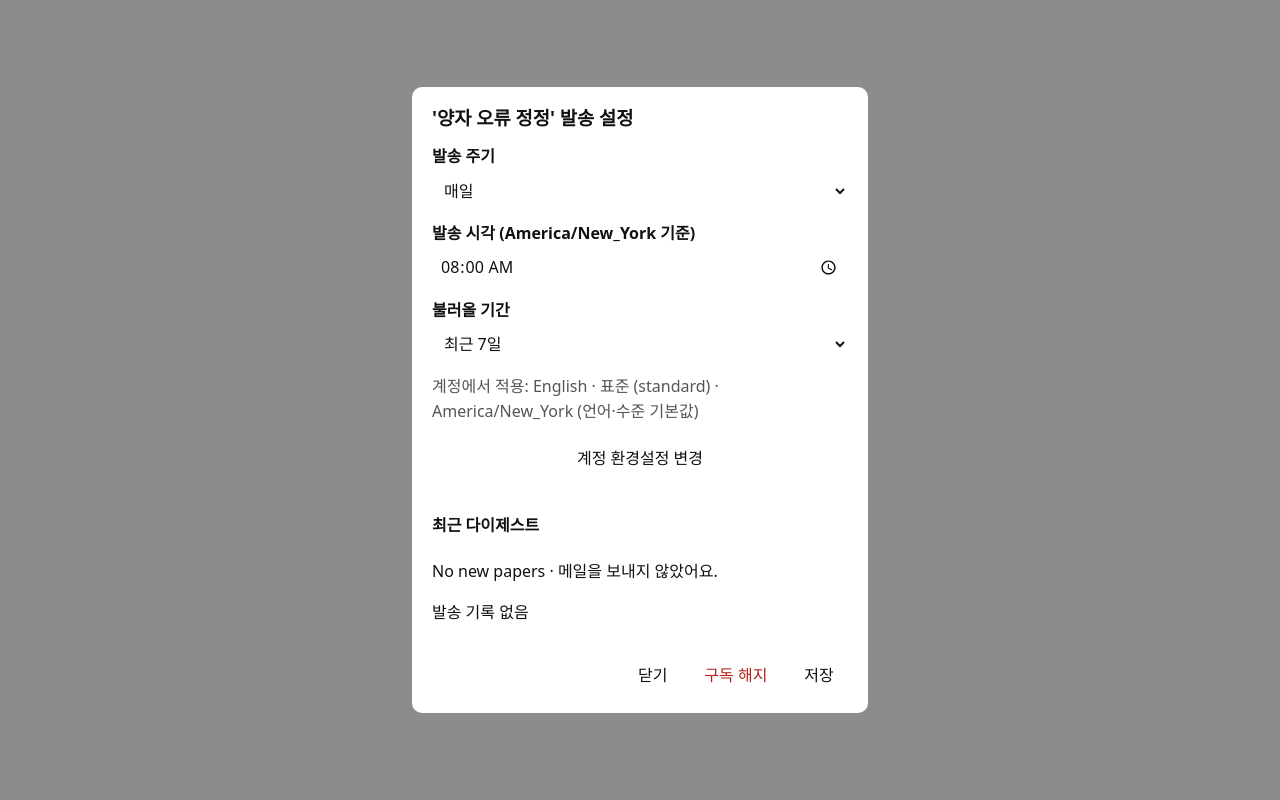
Test case: shows actual inherited preferences, recorded empty no-send state and editor inside the dialog
Expected: the text with test id "inherited-note" shows "English · 표준 (standard) · America/New_York", [432,375,719,422]
Expected: the text with test id "inherited-note" shows "기본값", [432,375,719,422]
Click the button with test id "preferences-toggle" at (640, 458), box [432,436,848,480]
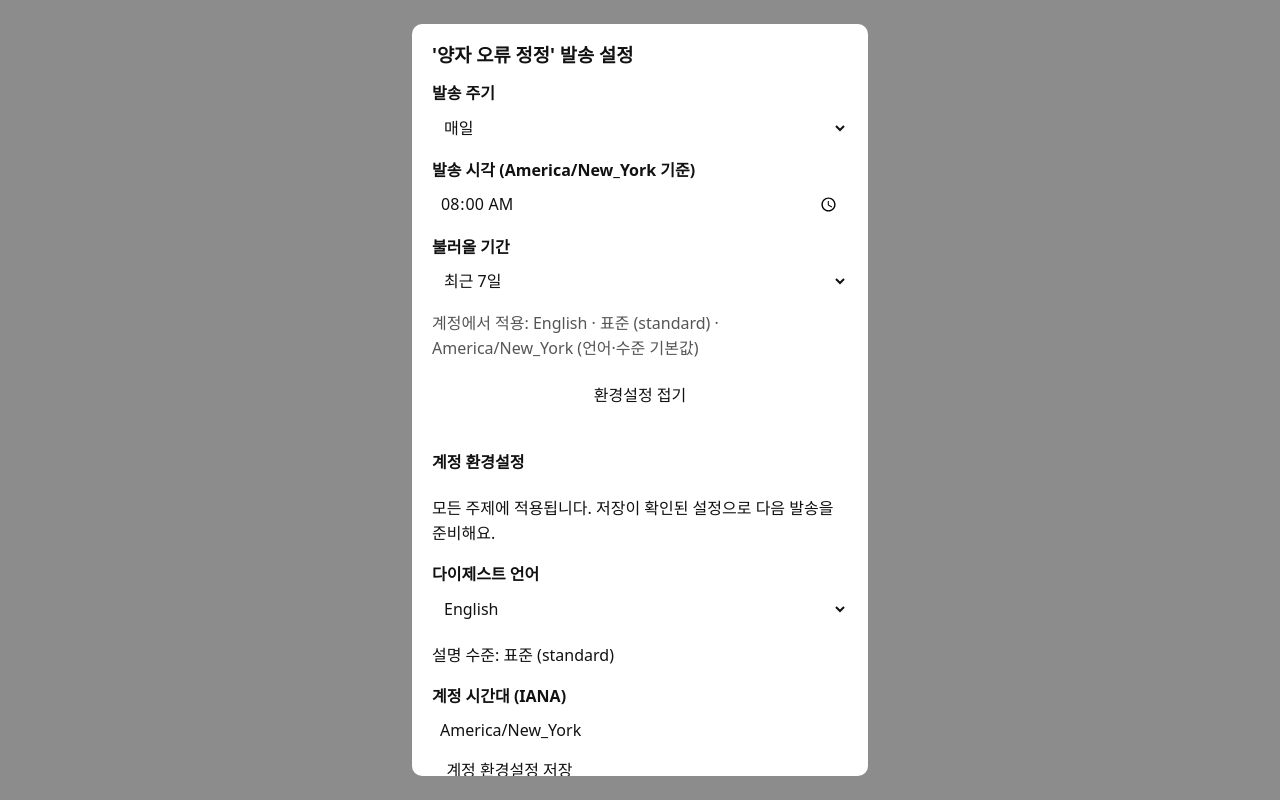
Expected: the dropdown with test id "digest-language" shows "English", [432,591,848,627]
Click the button with test id "preferences-toggle" at (640, 395), box [432,373,848,417]
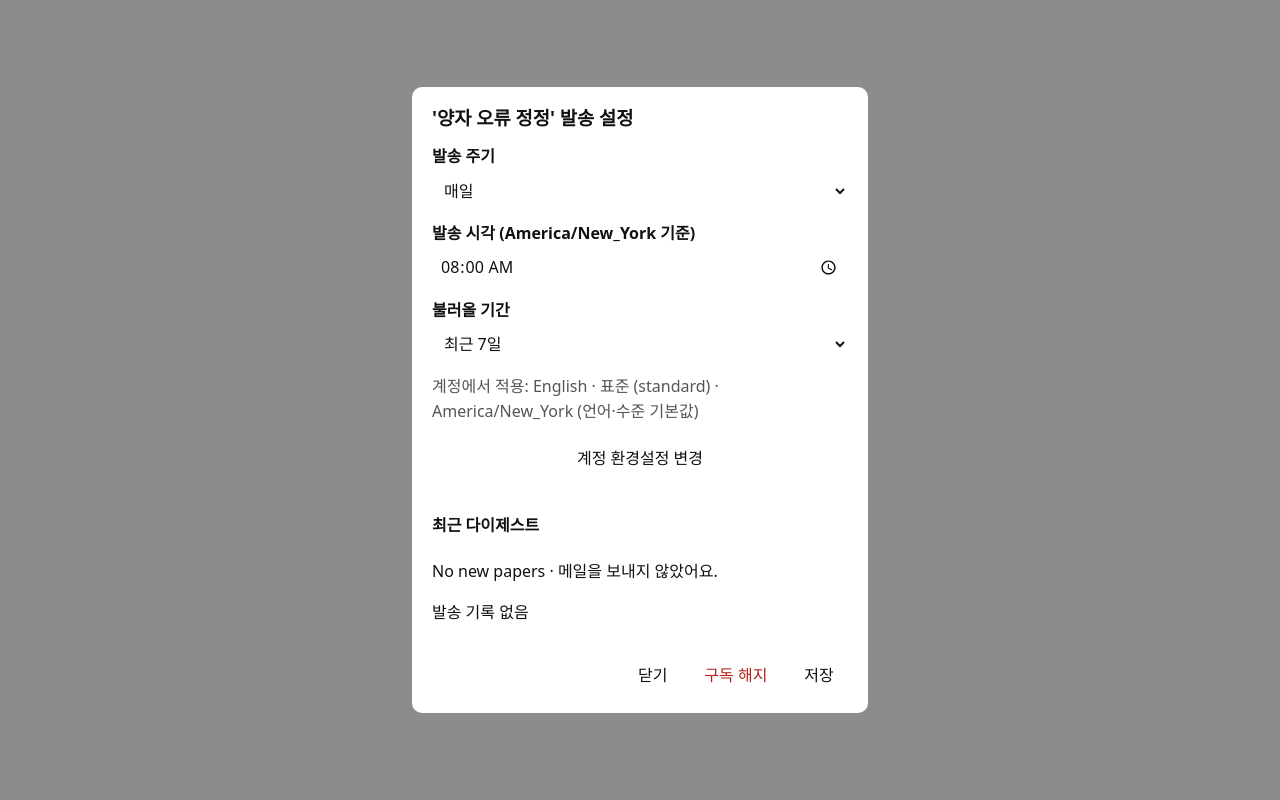
Expected: the element with test id "owner-preferences" is gone
